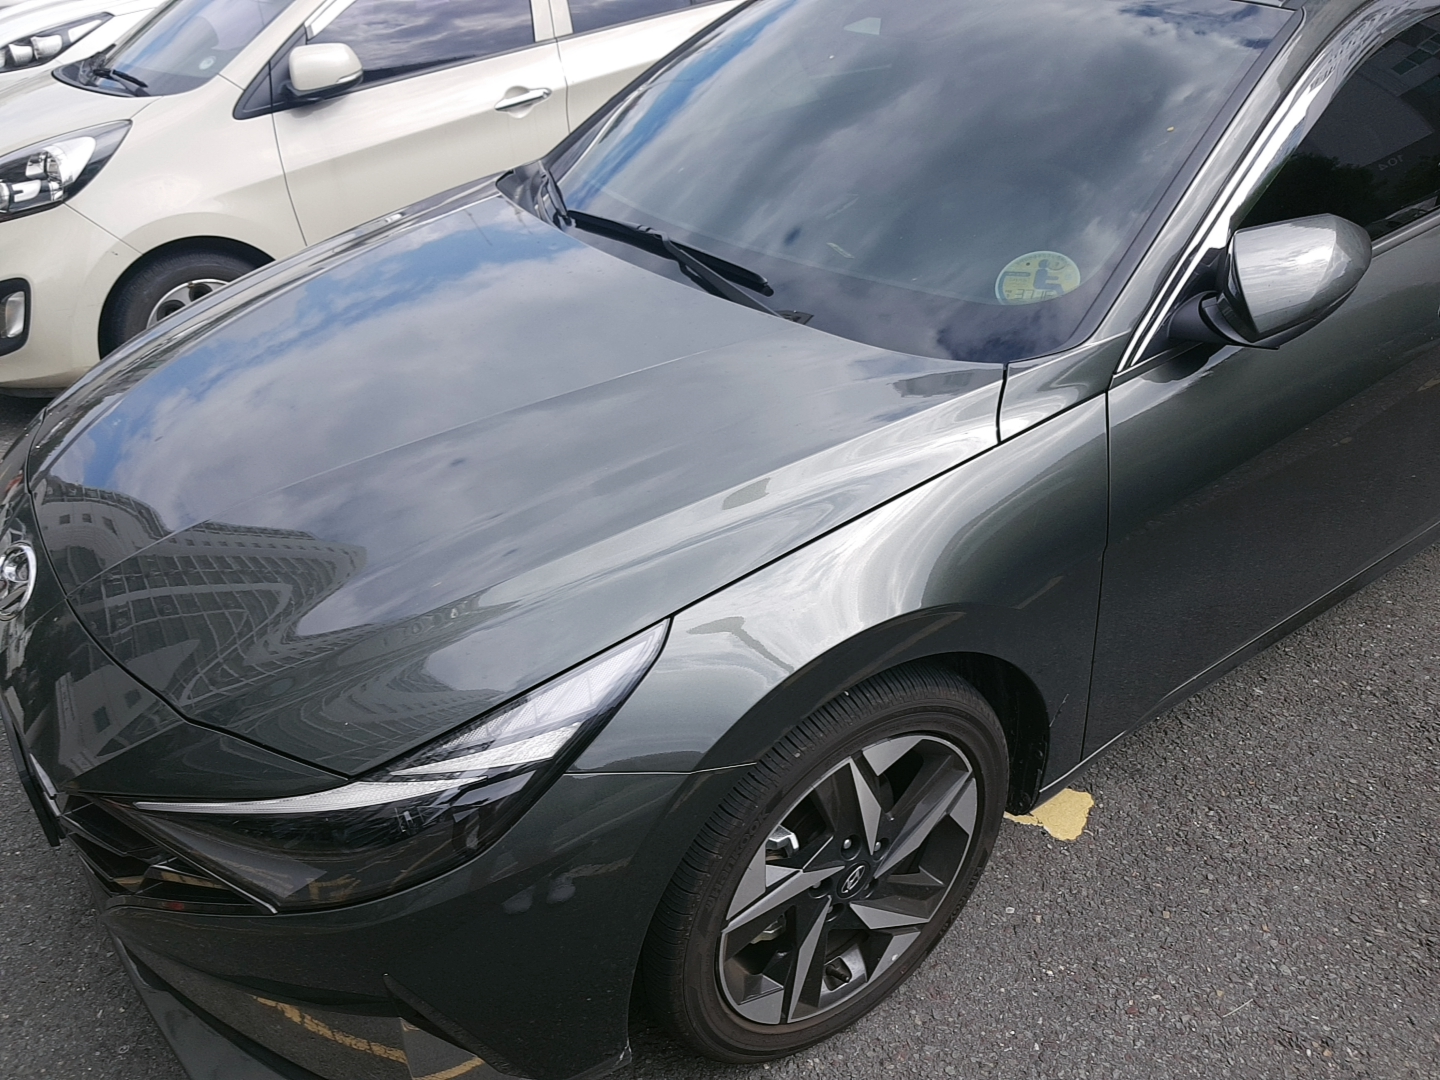disabled_parking: (993, 241, 1085, 307)
